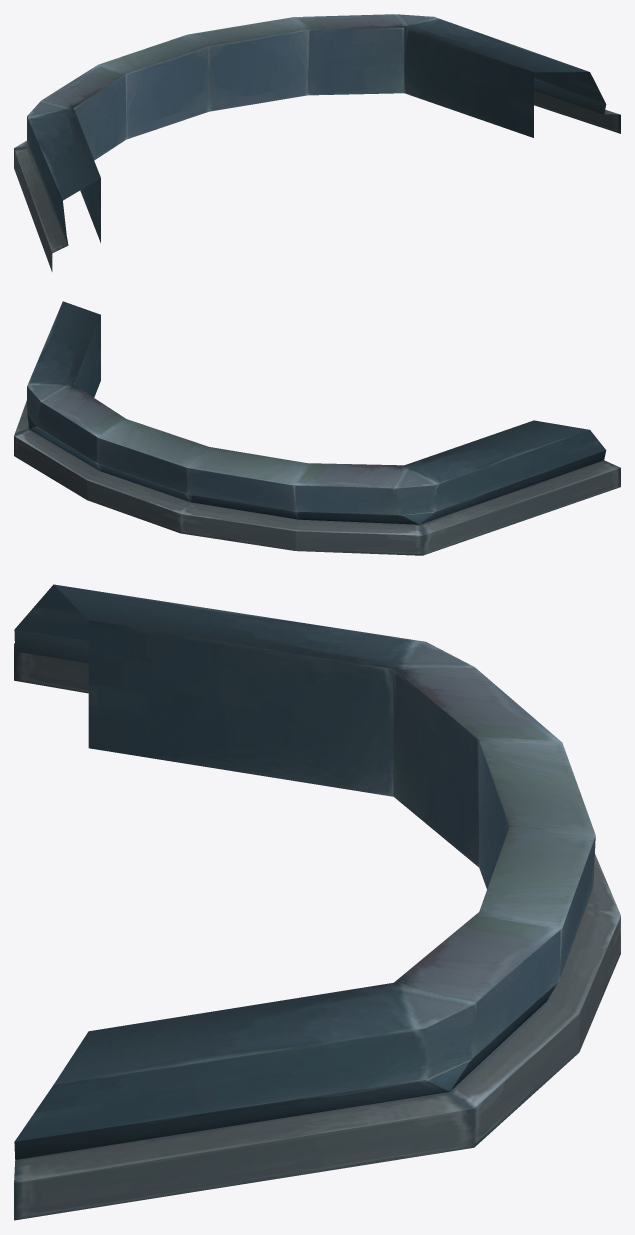
Rendered from A_CR_GEN_Pool_01.fbx.
3 views of the same model, one above another, from view 1: azimuth 30°, elevation 25°; view 2: azimuth 150°, elevation 25°; view 3: azimuth 270°, elevation 25° (orthographic). The views are drawn at different scales.
Parts seen in each view (by area): view 1: A_CR_GEN_Pool_01; view 2: A_CR_GEN_Pool_01; view 3: A_CR_GEN_Pool_01.
Boxes of the visible parts, x1,y1,x2,y2 form: A_CR_GEN_Pool_01: [14, 14, 620, 271]; A_CR_GEN_Pool_01: [14, 301, 620, 555]; A_CR_GEN_Pool_01: [14, 584, 620, 1220].
Size of the model in its own units: 681 by 75.28 by 324.
Materials: 1 (1 with a texture image).
